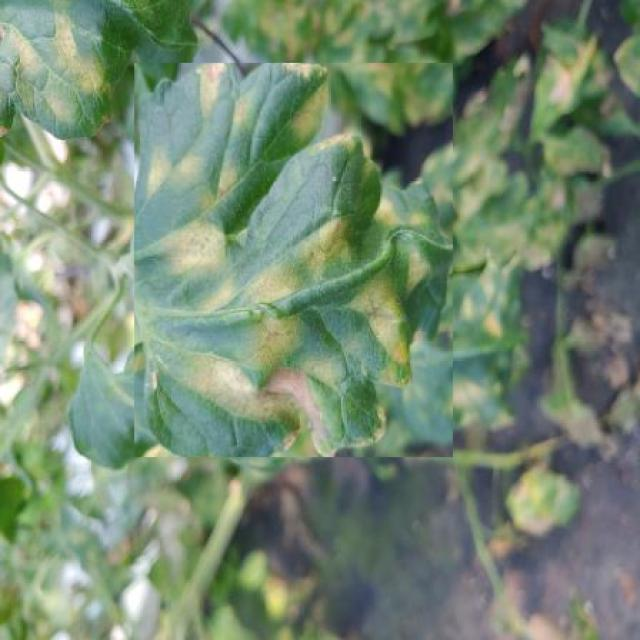Leaf Mold: (134, 63, 453, 457)
